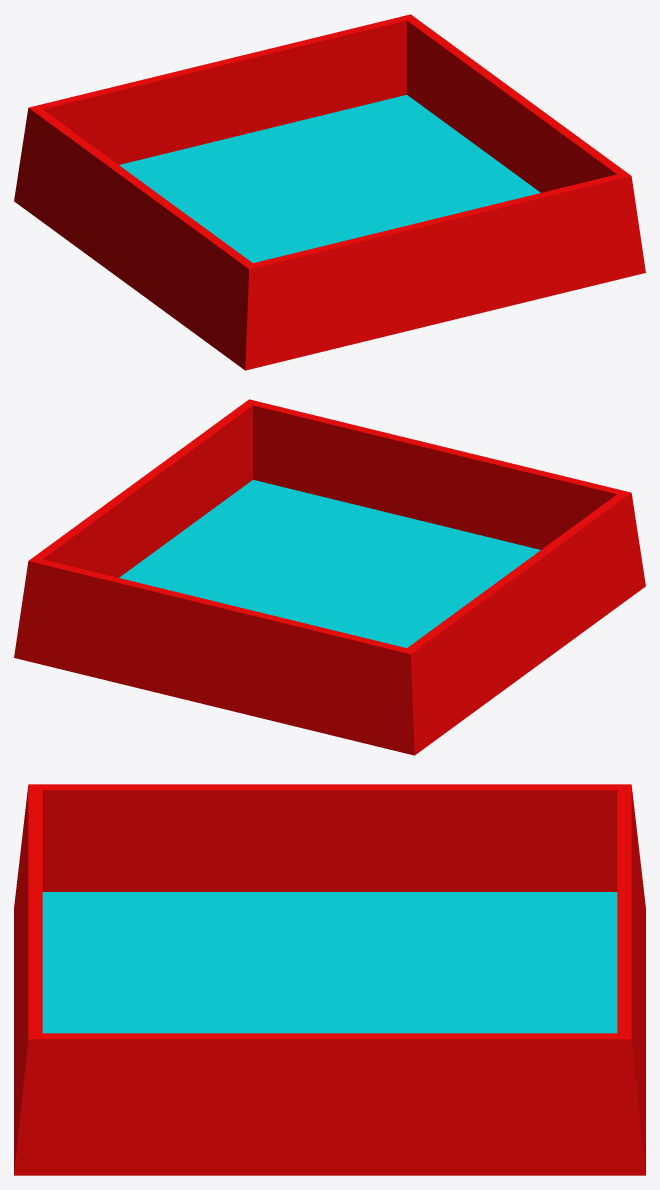
Rendered from Pool.fbx.
The picture shows the model from 3 angles, top to bottom: view 1: azimuth 30°, elevation 25°; view 2: azimuth 150°, elevation 25°; view 3: azimuth 270°, elevation 25°; orthographic projection. The views are drawn at different scales.
Visible parts, largest first — view 1: Cube.002, Water, Cube, Cube.003, Cube.001; view 2: Cube, Water, Cube.002, Cube.003, Cube.001; view 3: Cube.001, Water, Cube.003, Cube, Cube.002.
Part boxes in pixels (x1,y1,x2,y2): Cube.002: (245,174,645,370); Water: (119,95,540,262); Cube: (29,14,410,164); Cube.003: (14,107,252,370); Cube.001: (407,14,630,192); Cube: (14,559,414,755); Water: (119,480,540,647); Cube.002: (249,399,630,549); Cube.003: (407,492,645,755); Cube.001: (29,399,252,577); Cube.001: (14,1033,645,1175); Water: (42,892,617,1033); Cube.003: (29,784,630,891); Cube: (617,784,645,1173); Cube.002: (14,784,42,1173).
Size of the model in its own units: 220 by 50 by 220.
